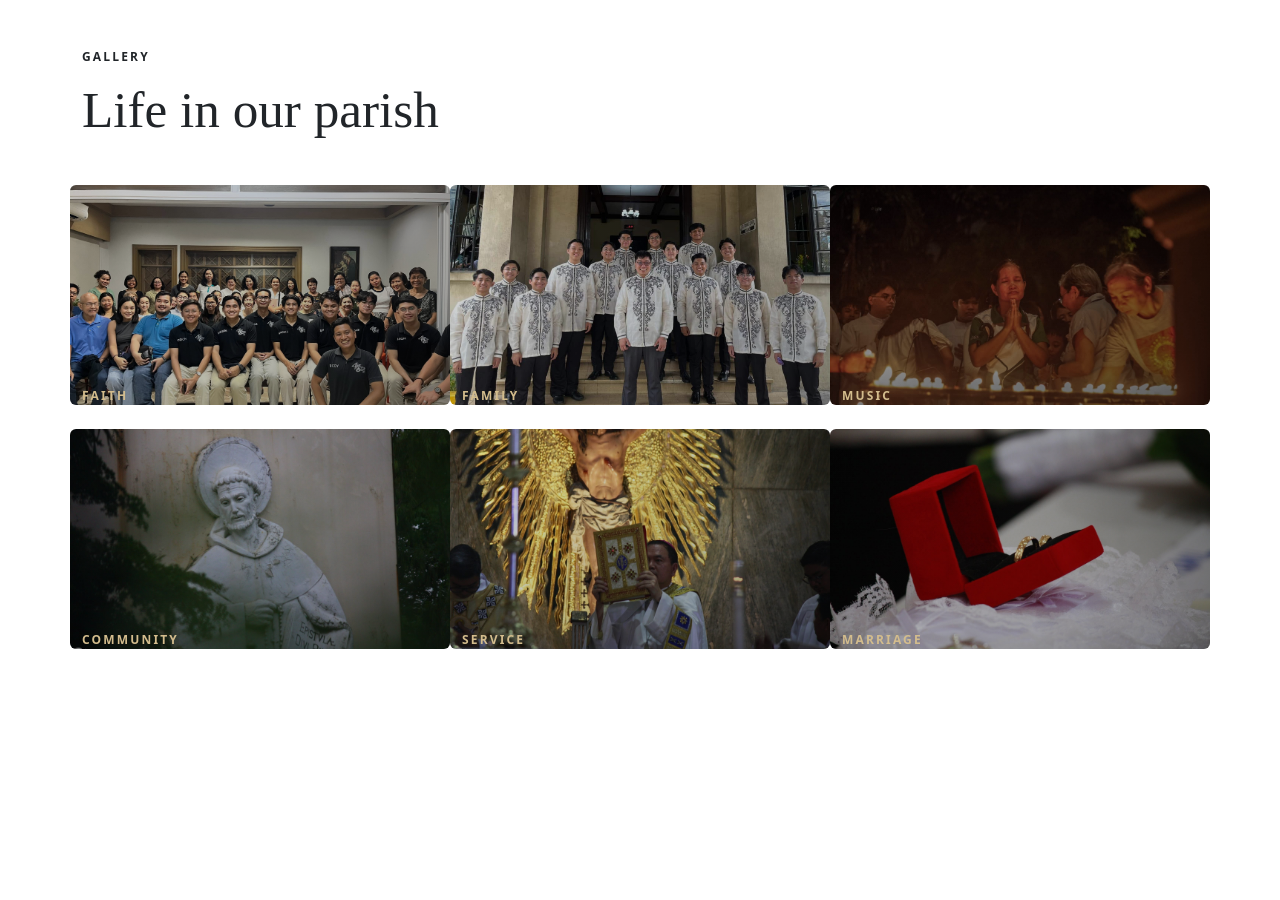
Test: GalleryPage › opens the selected photo album and provides a link back to the gallery
What coordinates should you click on to do the following:
click the link with aria-label "Open Faith album"
I would click on:
 (105, 396)
Its box is [70,185,450,405].
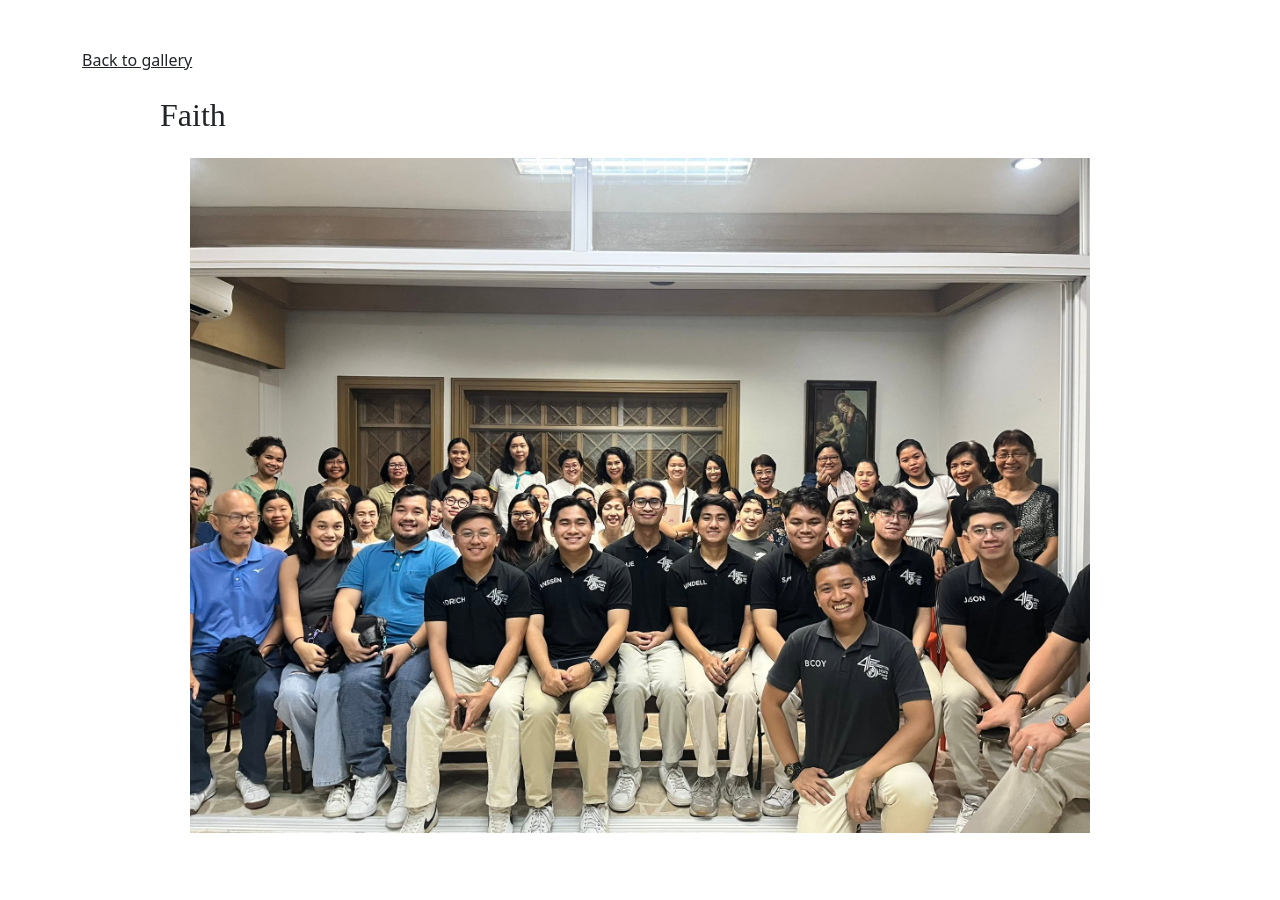
Check: the heading "Faith" is shown, box [160,97,226,133]
Check: the picture named "Faith photo 1" is shown, box [160,158,1120,833]
